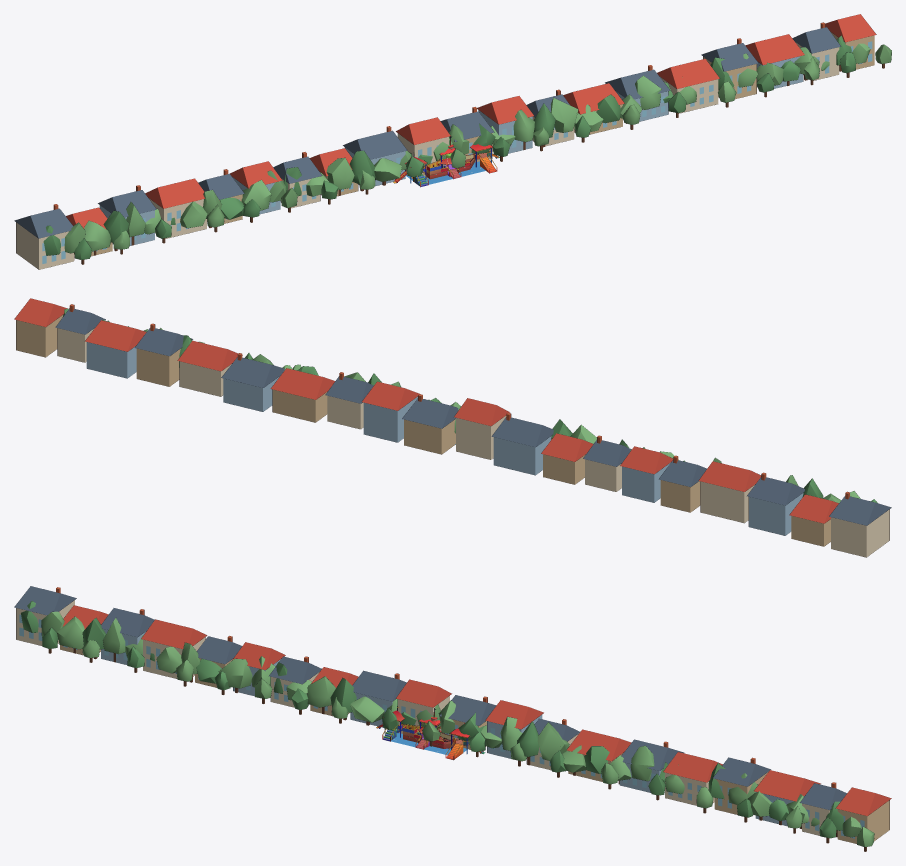
The model's file is fps-kit-garden.glb.
3 renders of one model, top to bottom at view 1: azimuth 30°, elevation 25°; view 2: azimuth 150°, elevation 25°; view 3: azimuth 330°, elevation 25°, orthographic.
Visible parts, largest first — view 1: KIT_GARDEN_Backdrop_Houses, KIT_GARDEN_Backdrop_Trees, KIT_GARDEN_Landmark_PlayShip, KIT_GARDEN_Landmark_PlayFortLinks; view 2: KIT_GARDEN_Backdrop_Houses, KIT_GARDEN_Backdrop_Trees; view 3: KIT_GARDEN_Backdrop_Houses, KIT_GARDEN_Backdrop_Trees, KIT_GARDEN_Landmark_PlayShip, KIT_GARDEN_Landmark_PlayFortLinks.
Part boxes in pixels (left/top/right/bottom): KIT_GARDEN_Backdrop_Houses: left=14, top=14, right=891, bottom=269; KIT_GARDEN_Backdrop_Trees: left=43, top=35, right=870, bottom=260; KIT_GARDEN_Landmark_PlayShip: left=406, top=136, right=485, bottom=184; KIT_GARDEN_Landmark_PlayFortLinks: left=393, top=153, right=499, bottom=187; KIT_GARDEN_Backdrop_Houses: left=14, top=298, right=891, bottom=557; KIT_GARDEN_Backdrop_Trees: left=63, top=308, right=877, bottom=503; KIT_GARDEN_Backdrop_Houses: left=14, top=586, right=891, bottom=851; KIT_GARDEN_Backdrop_Trees: left=21, top=601, right=861, bottom=837; KIT_GARDEN_Landmark_PlayShip: left=391, top=708, right=467, bottom=755; KIT_GARDEN_Landmark_PlayFortLinks: left=376, top=723, right=485, bottom=760.
Size of the model in its own units: 233 by 12.89 by 18.69.
1 material, 1 textured.
